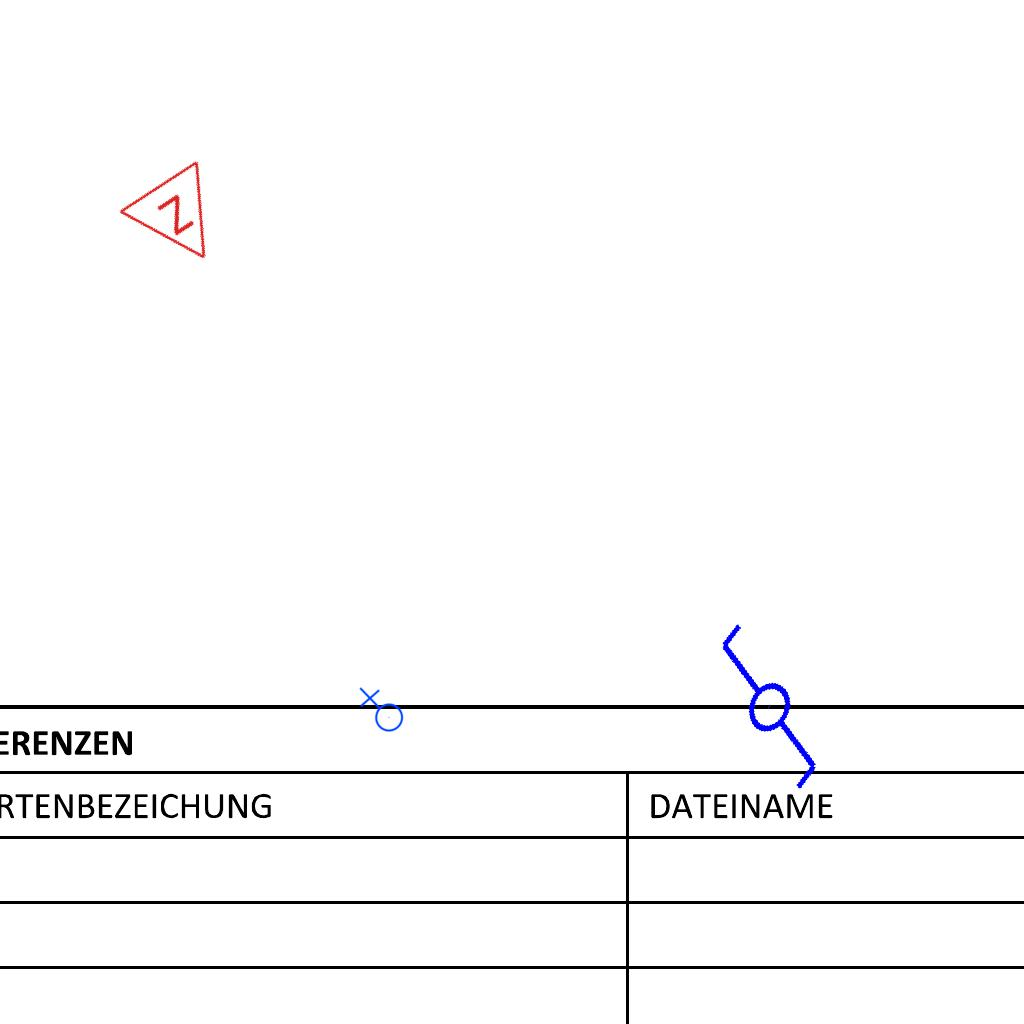Elektroanschluss_allgemein_230V_Geraeteanschlussdose_230V: (357, 687, 404, 736)
Wechselschalter: (669, 614, 860, 814)
Zimmersignalleuchte: (113, 152, 251, 290)
